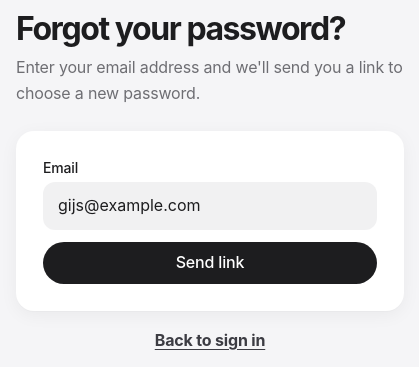
ForgotPasswordPage › asks for a link for the account at this organisation, and never says whether there is one
Check: the field labelled "Email" holds "gijs@example.com", box [43, 182, 377, 230]
Click the button "Send link". click: click(210, 263)
box: [43, 242, 377, 284]
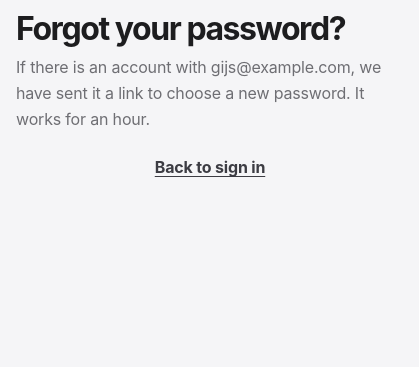
Check: the text "If there is an account with gijs@example.com" is shown, box [16, 57, 381, 128]
